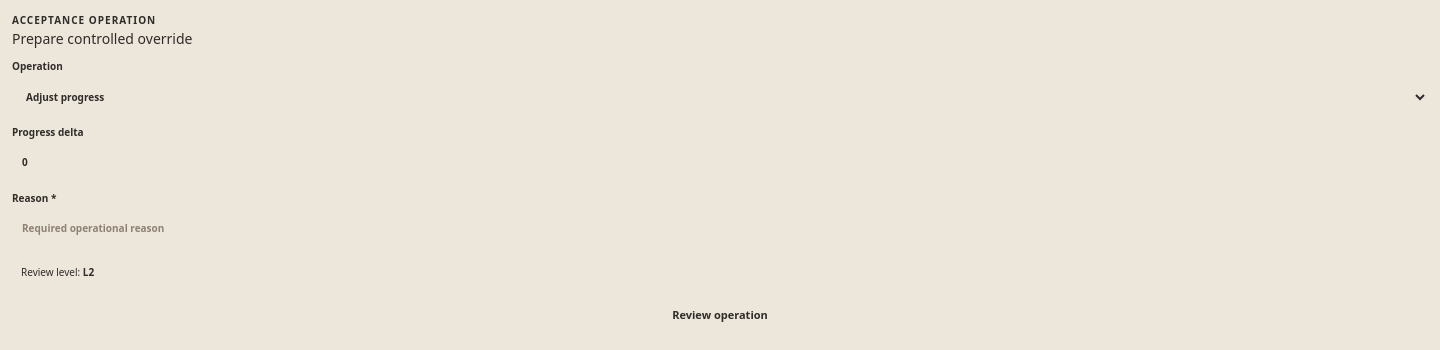
Test case: Quest Acceptance override UI › blocks Level 3 confirmation on mobile
Replace the text in the number field labelled "Progress delta" with "2": {"x": 720, "y": 162} [12,144,1428,180]
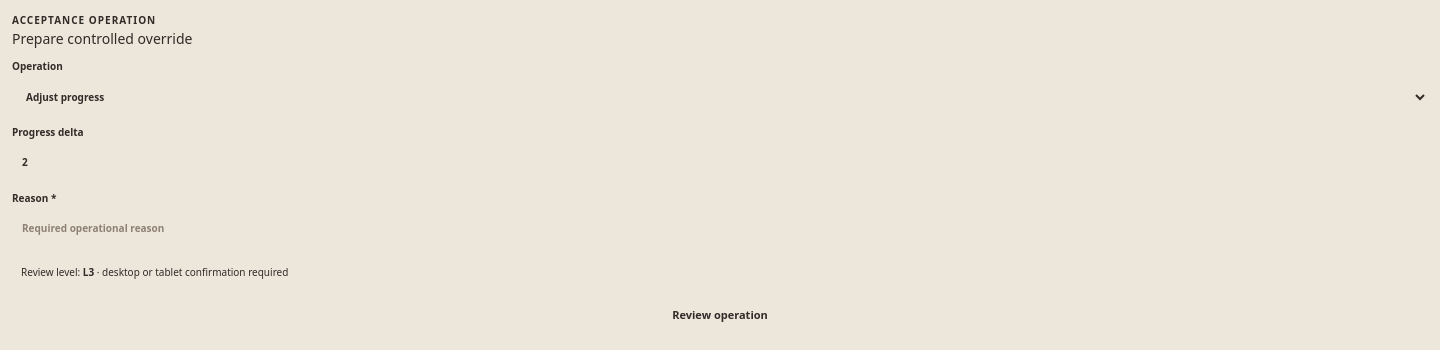
In the field labelled "Reason *": {"x": 720, "y": 228} [12,210,1428,246], type "Verified target evidence"
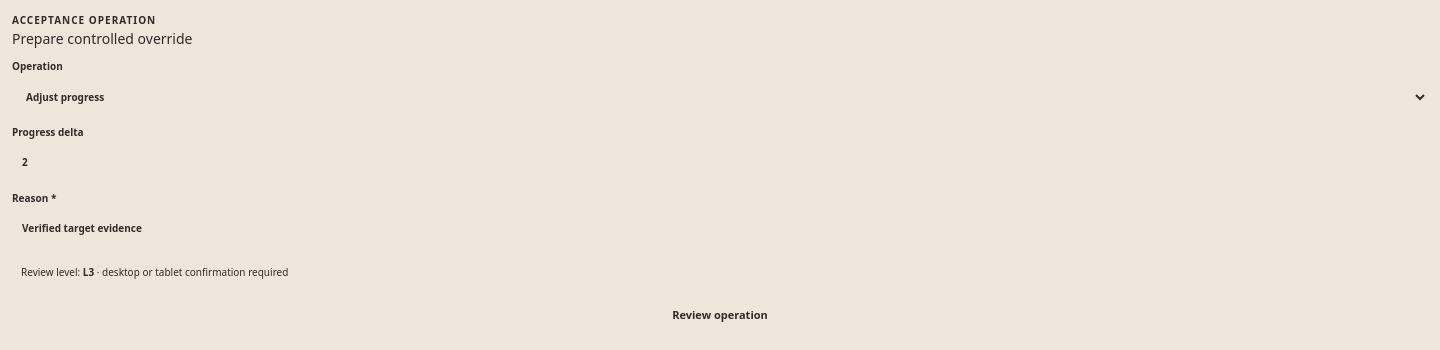
Click the button "Review operation": {"x": 720, "y": 315} [12,297,1428,333]
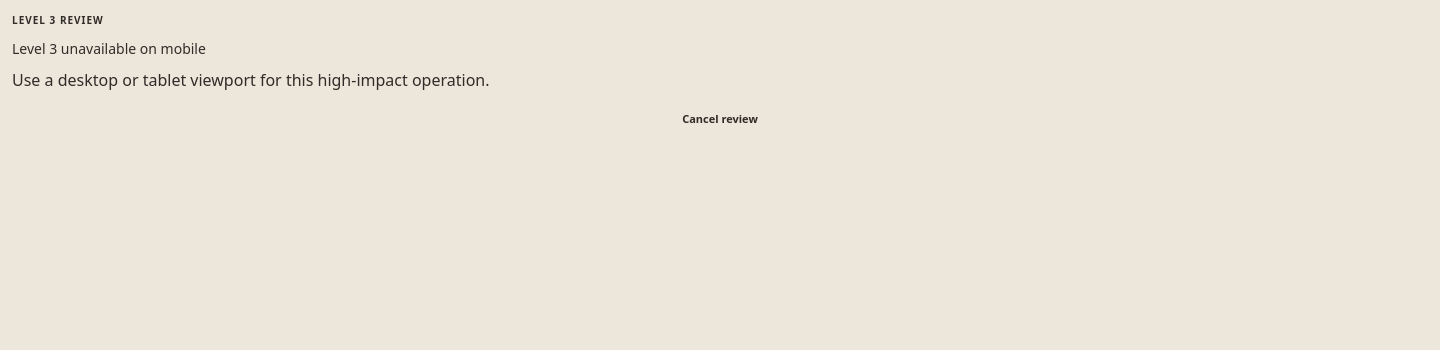
Result: the heading "Level 3 unavailable on mobile" is shown at [12,38,206,58]
